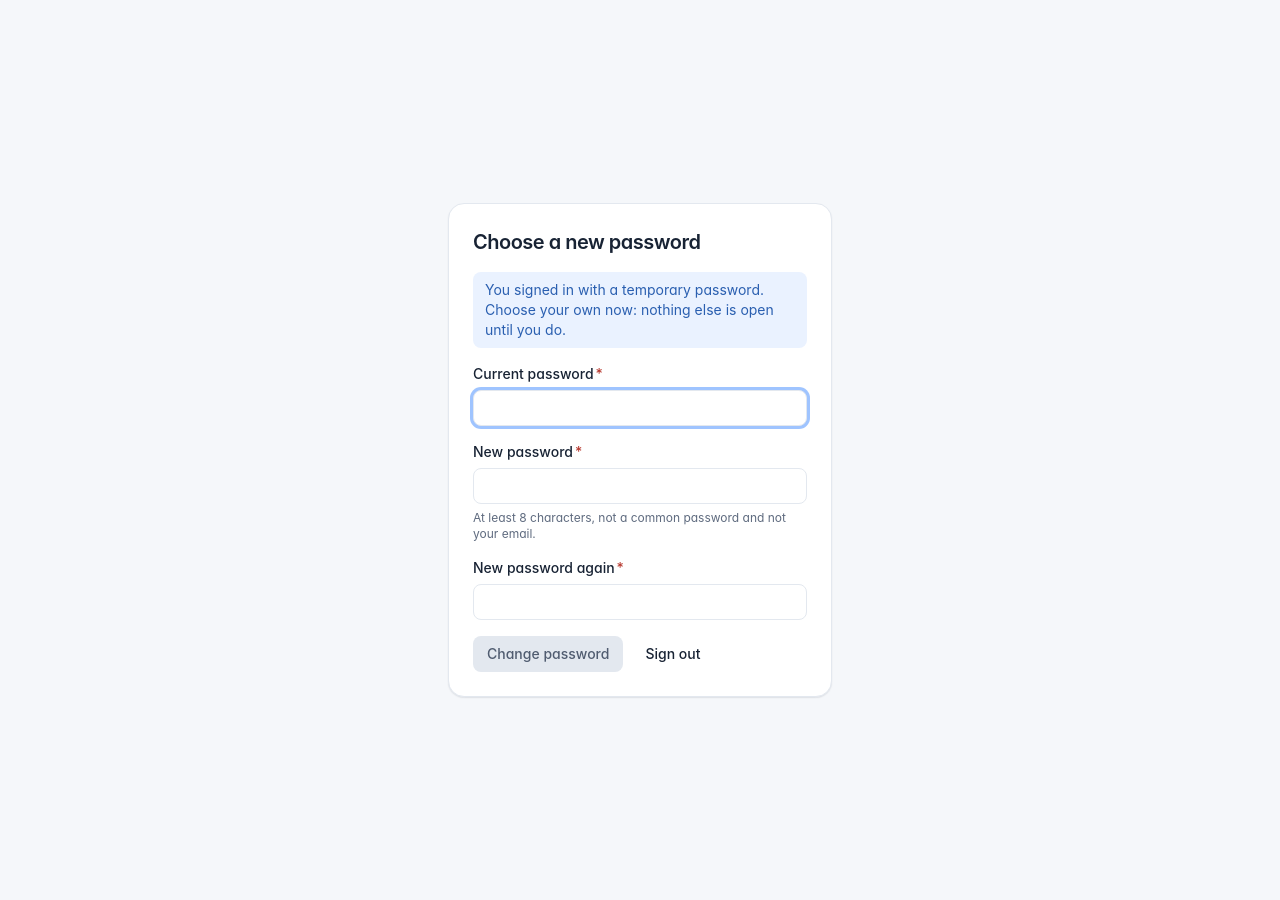
Test: a temporary password › shows only the change-password screen until a new password is saved
The image size is (1280, 900).
Check: the heading "Choose a new password" is shown, box [473,230,700,254]
Step 1. Type "the temporary one" into the password field labelled "Current password*" → x=640, y=408, box [473,390,807,426]
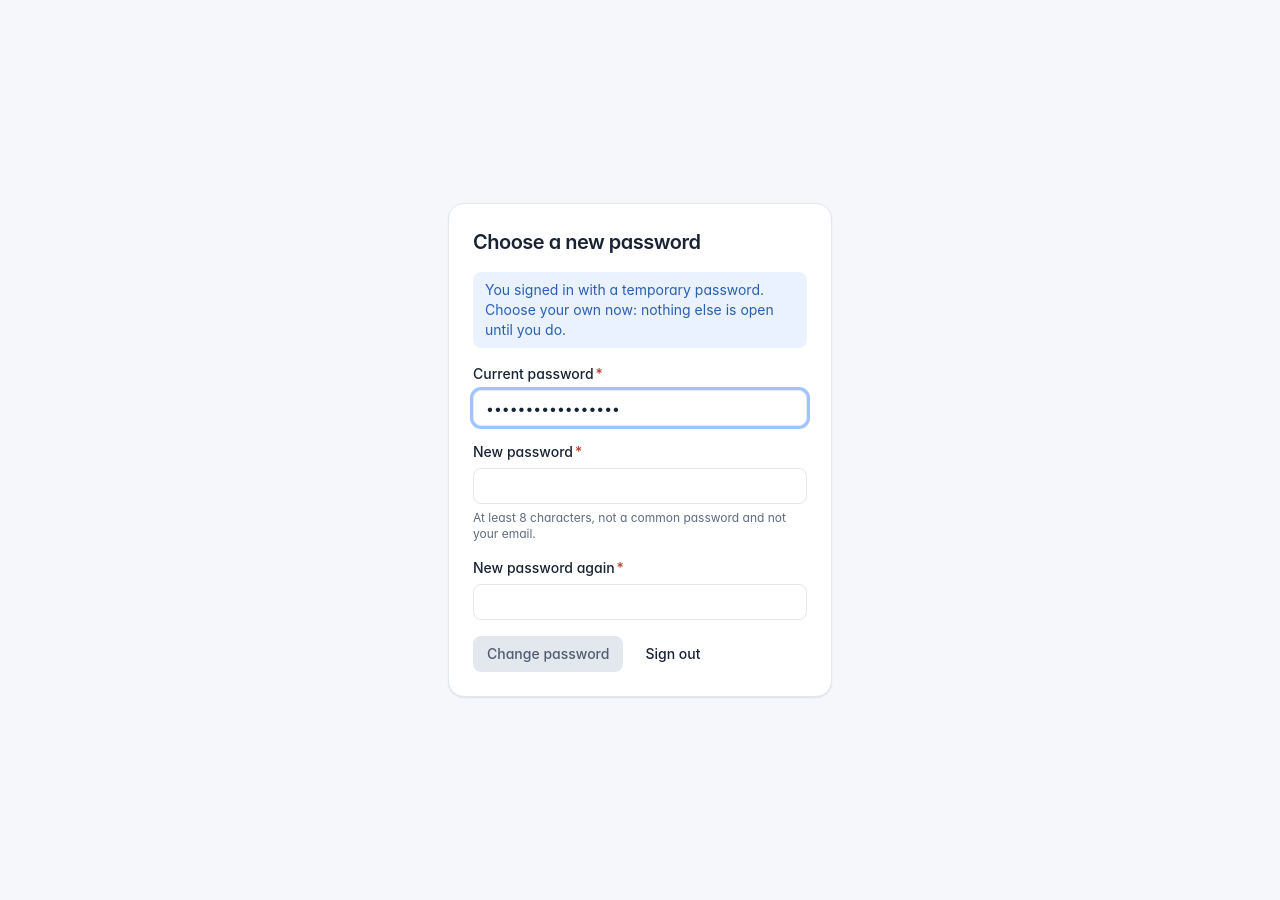
Step 2. Type "short" into the password field labelled "New password*" → x=640, y=486, box [473,468,807,504]
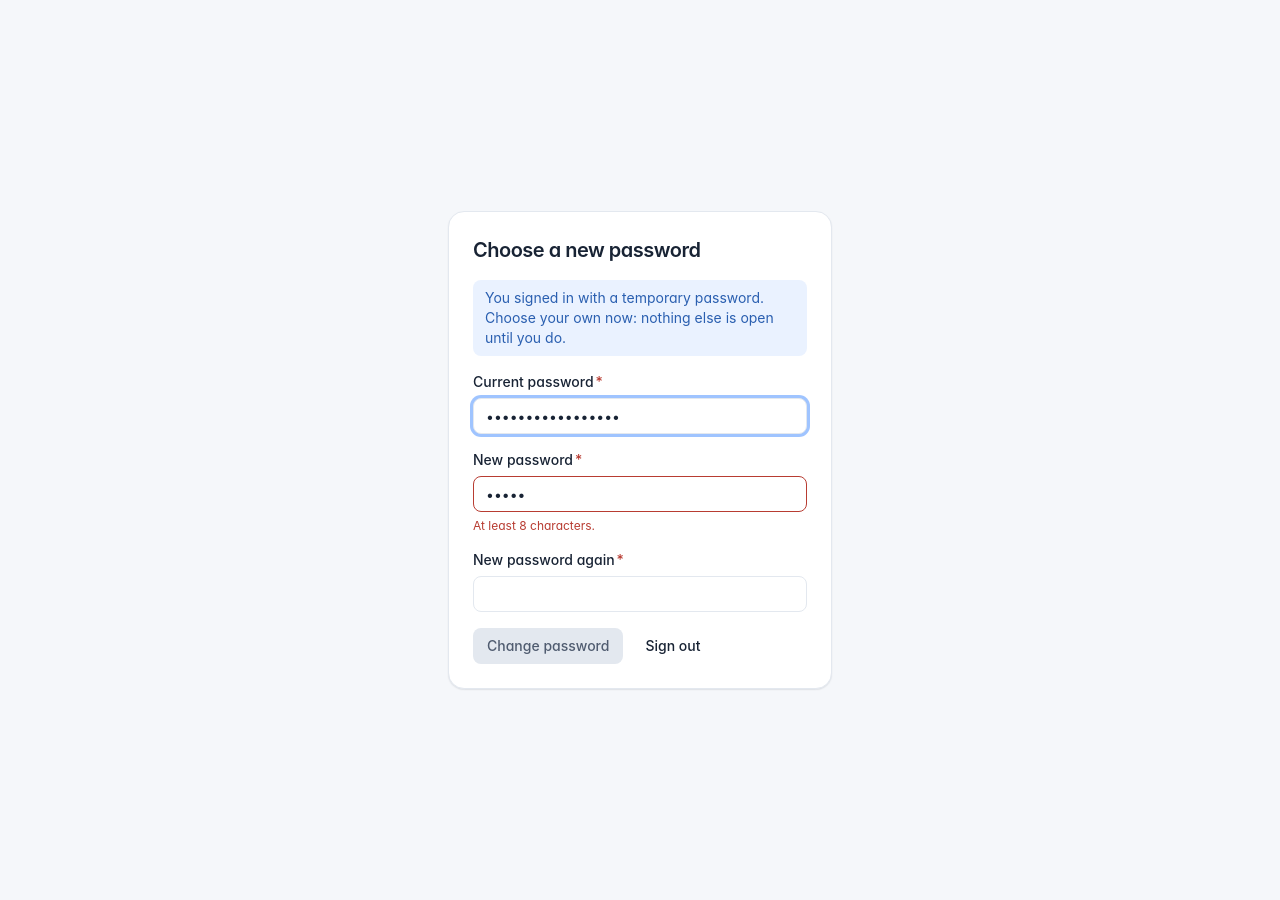
Check: the text "At least 8 characters." is shown, box [473,518,595,533]
Check: the button "Change password" is disabled, box [473,628,623,664]
Step 3. Type "my own long password" into the password field labelled "New password*" → x=640, y=494, box [473,476,807,512]
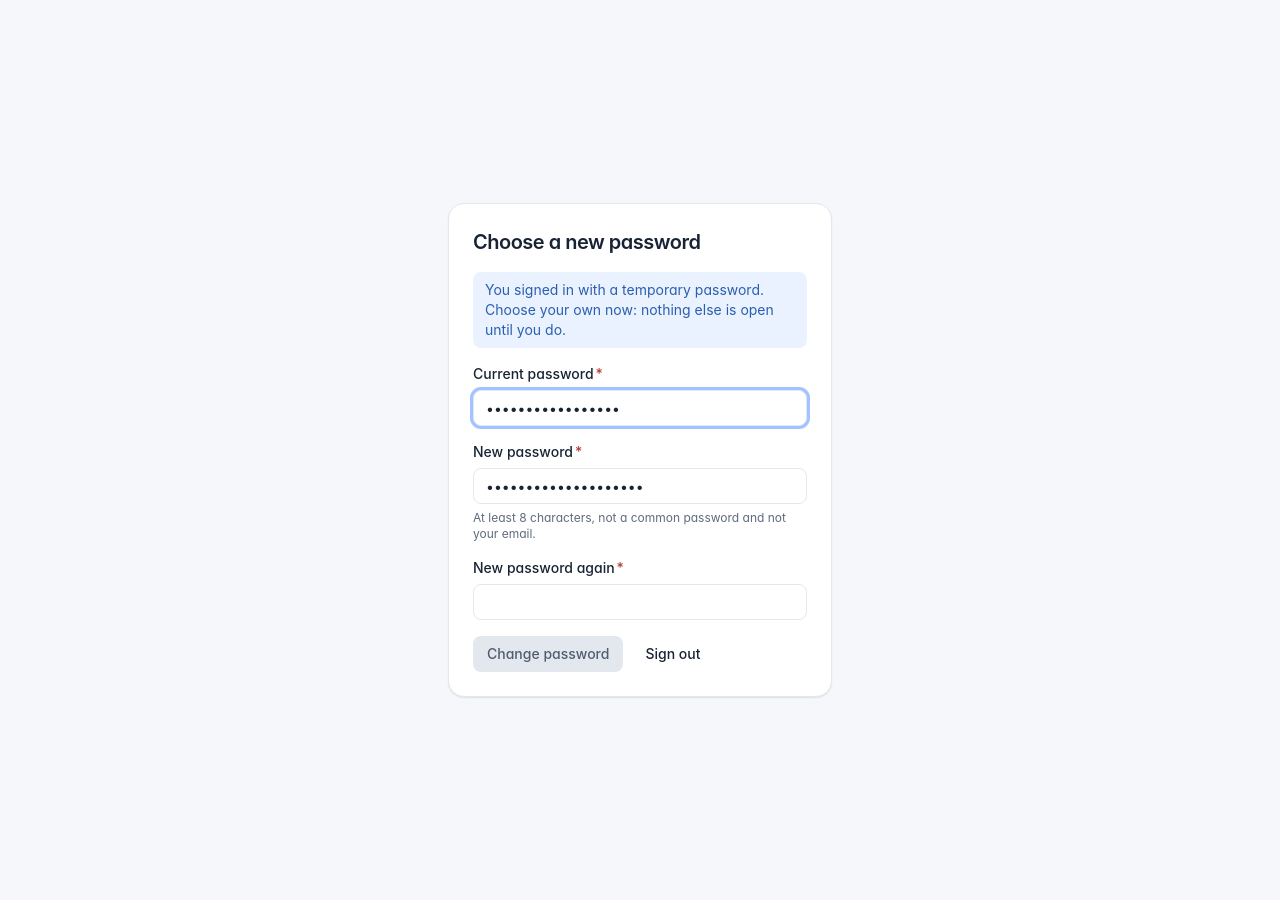
Step 4. Type "my own long passwor" into the password field labelled "New password again*" → x=640, y=602, box [473,584,807,620]
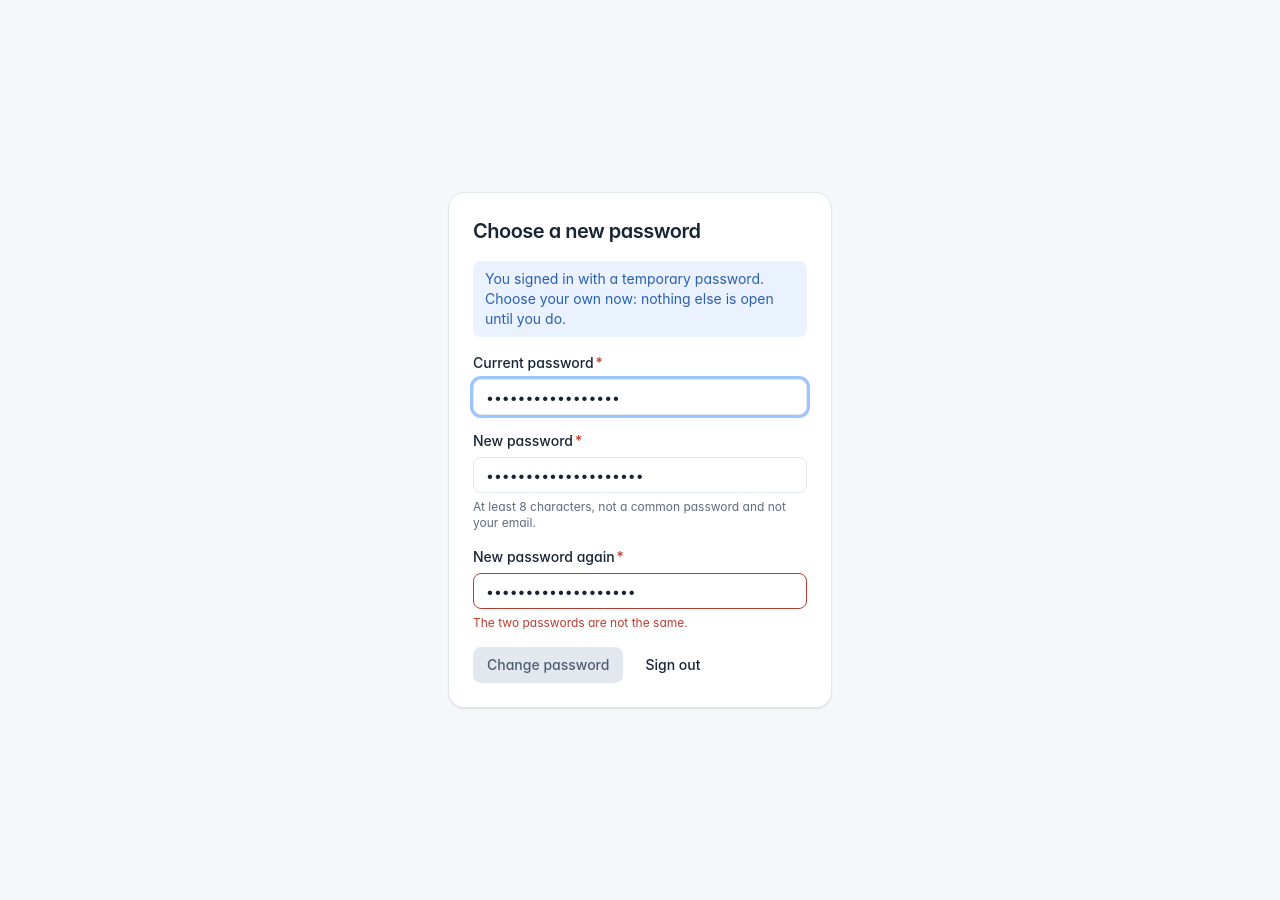
Check: the text "The two passwords are not the same." is shown, box [473,615,688,630]
Step 5. Type "my own long password" into the password field labelled "New password again*" → x=640, y=591, box [473,573,807,609]
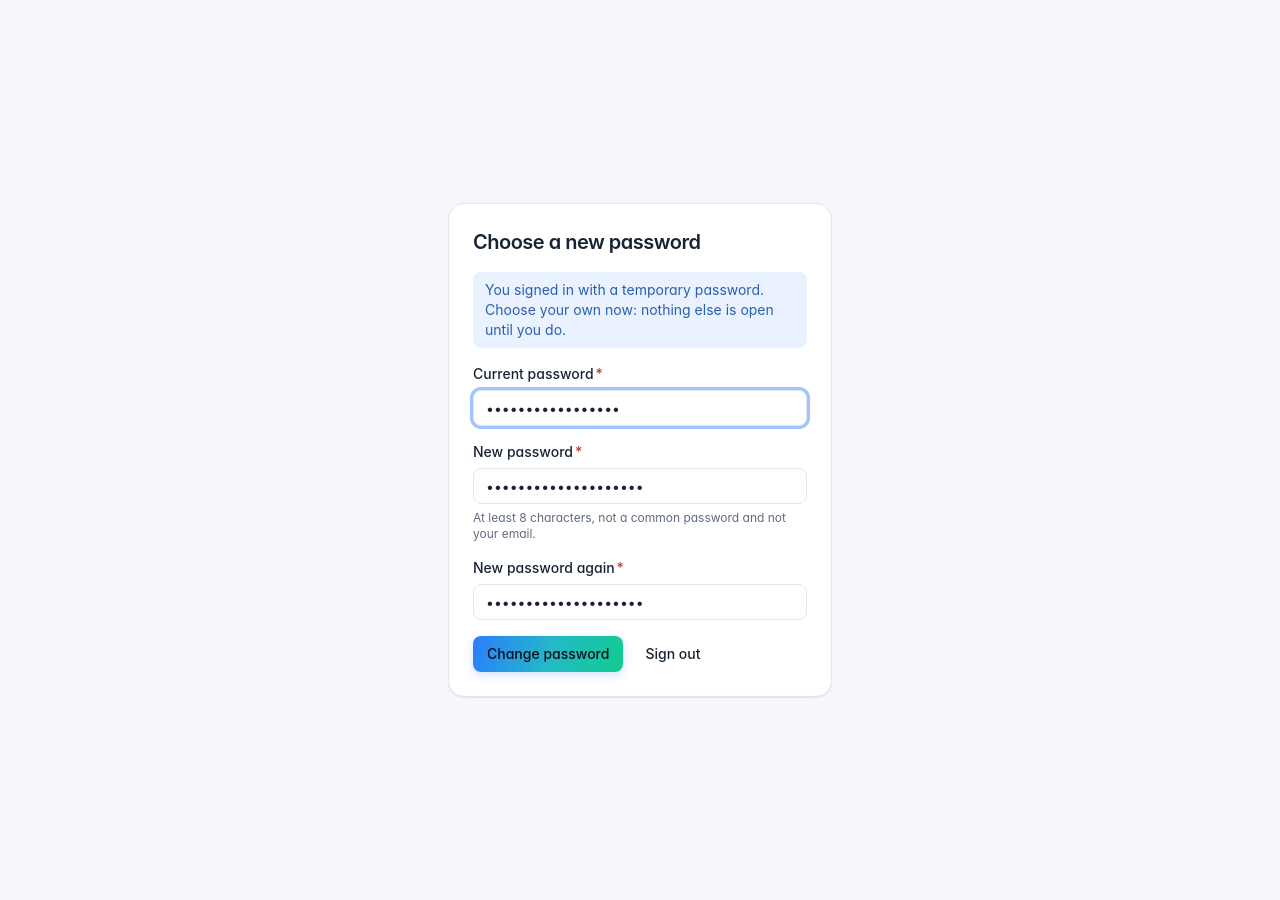
Check: the button "Change password" is enabled
Step 6. Click the button "Change password" → x=548, y=654, box [473,636,623,672]
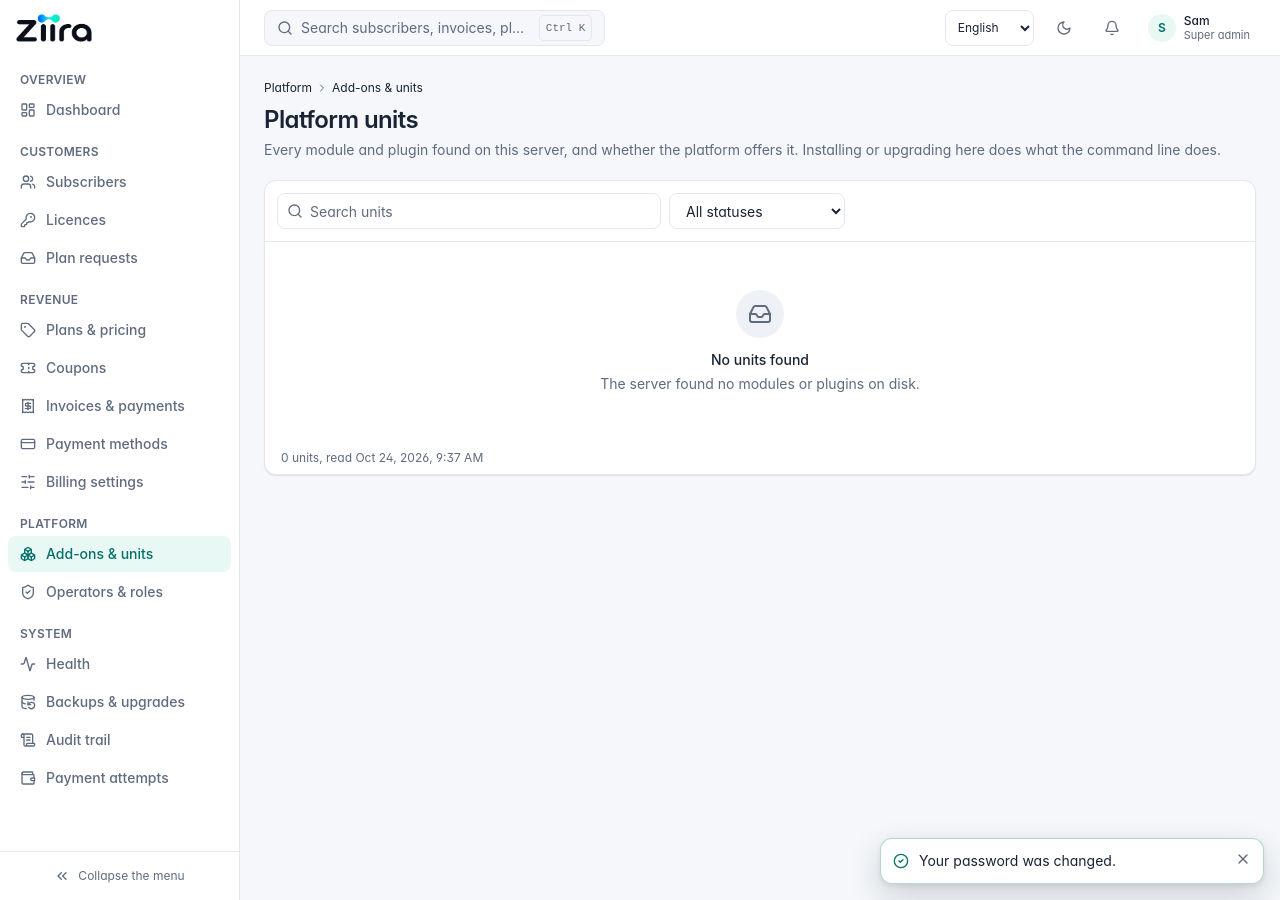
Check: the navigation bar named "Console areas" is shown, box [0,56,239,851]
